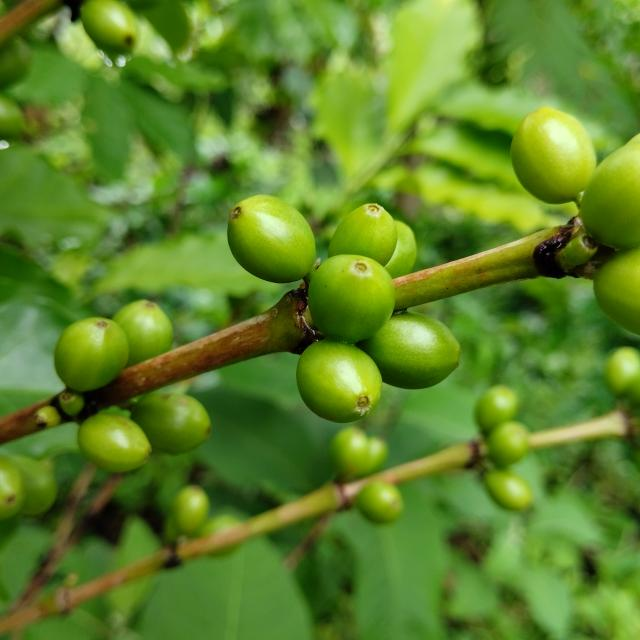green: (511, 106, 597, 203), (357, 311, 461, 390), (227, 194, 316, 283), (308, 254, 396, 343), (296, 339, 382, 423), (581, 133, 640, 249), (53, 317, 129, 392), (131, 392, 211, 455), (77, 413, 151, 473), (328, 203, 398, 266), (112, 300, 172, 367), (595, 247, 640, 335), (385, 220, 417, 278)
